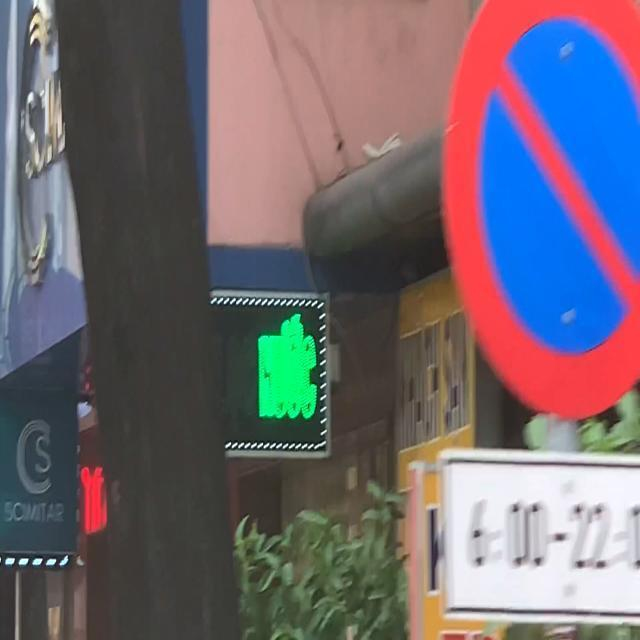131a-cam-do-xe: (440, 2, 640, 416)
